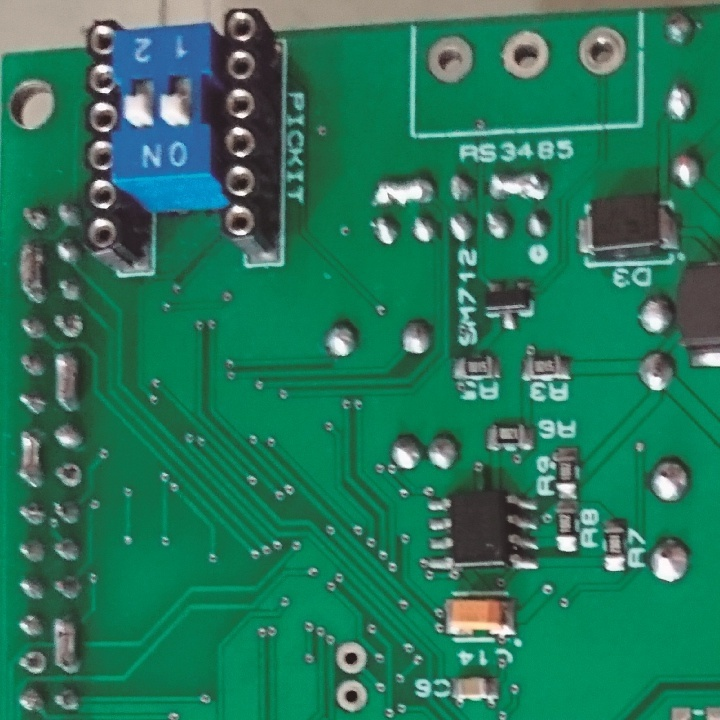F: (497, 29, 553, 82), (576, 23, 628, 78), (424, 33, 478, 85), (333, 675, 373, 713), (333, 639, 370, 675), (47, 460, 87, 492), (13, 646, 51, 677), (50, 312, 87, 336)
P: (52, 344, 83, 421), (483, 169, 553, 203), (16, 241, 50, 302), (50, 613, 81, 675), (371, 178, 439, 206), (17, 424, 42, 489)
